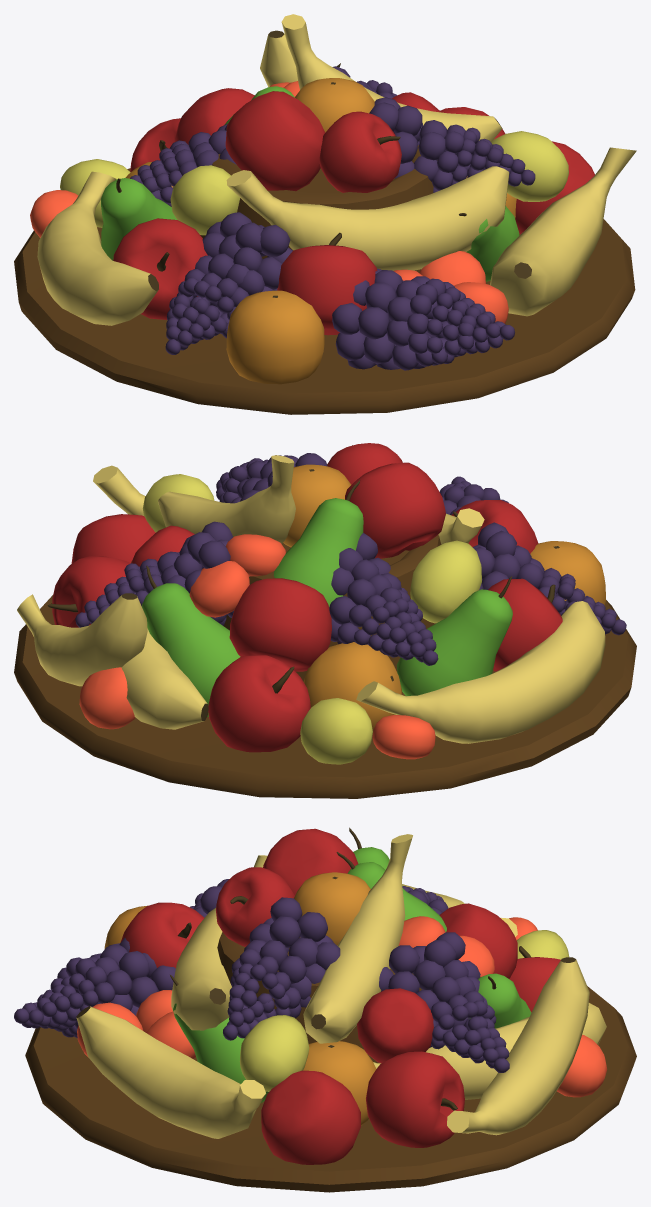
File: Hat_Fruit.fbx
3 views of the same model, one above another, from view 1: azimuth 30°, elevation 25°; view 2: azimuth 150°, elevation 25°; view 3: azimuth 270°, elevation 25° (orthographic). The views are drawn at different scales.
Parts seen in each view (by area): view 1: Hat_Fruit; view 2: Hat_Fruit; view 3: Hat_Fruit.
Part boxes in pixels (box(x1,y1,x2,y2)): Hat_Fruit: box(14, 14, 636, 414); Hat_Fruit: box(14, 443, 636, 798); Hat_Fruit: box(14, 827, 636, 1192).
Size of the model in its own units: 3.05 by 1.32 by 3.12.
